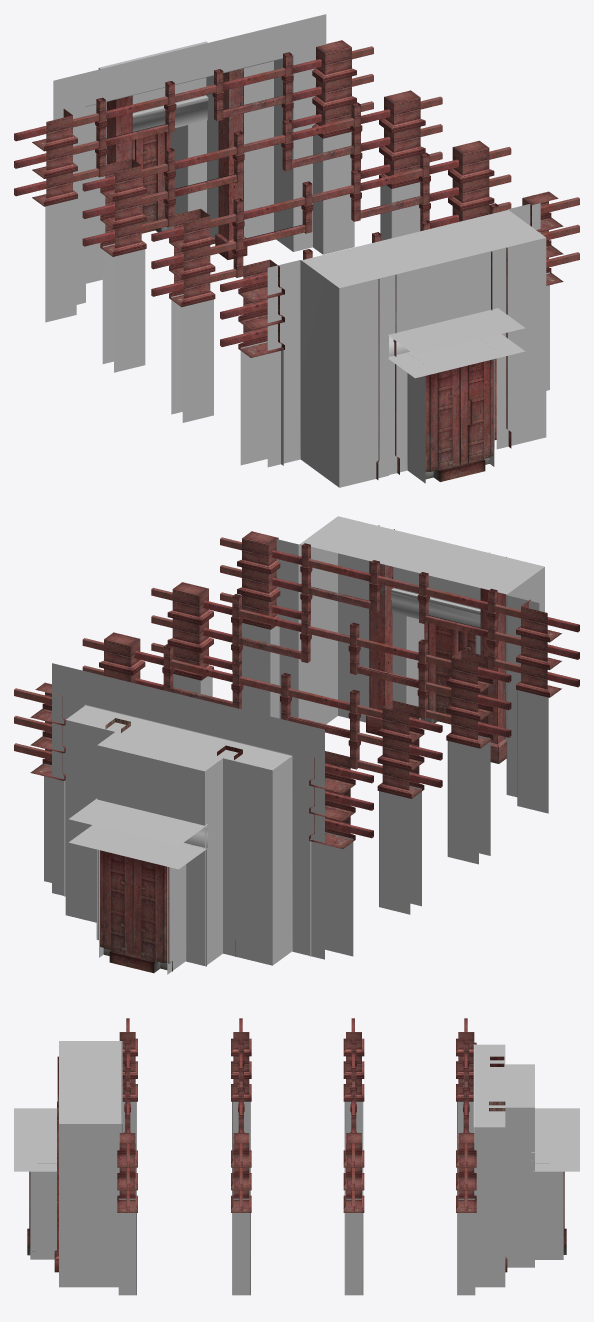
File: SM_MeditationWalls.FBX
3 renders of one model, top to bottom at view 1: azimuth 30°, elevation 25°; view 2: azimuth 150°, elevation 25°; view 3: azimuth 270°, elevation 25°, orthographic. The views are drawn at different scales.
Parts seen in each view (by area): view 1: SM_MeditationWalls; view 2: SM_MeditationWalls; view 3: SM_MeditationWalls.
Boxes of the visible parts, x1=… form: SM_MeditationWalls: x1=14, y1=14, x2=579, y2=487; SM_MeditationWalls: x1=14, y1=516, x2=579, y2=974; SM_MeditationWalls: x1=14, y1=1018, x2=579, y2=1295.
Bounding box in the file's own units: 960 × 1605 × 590.
